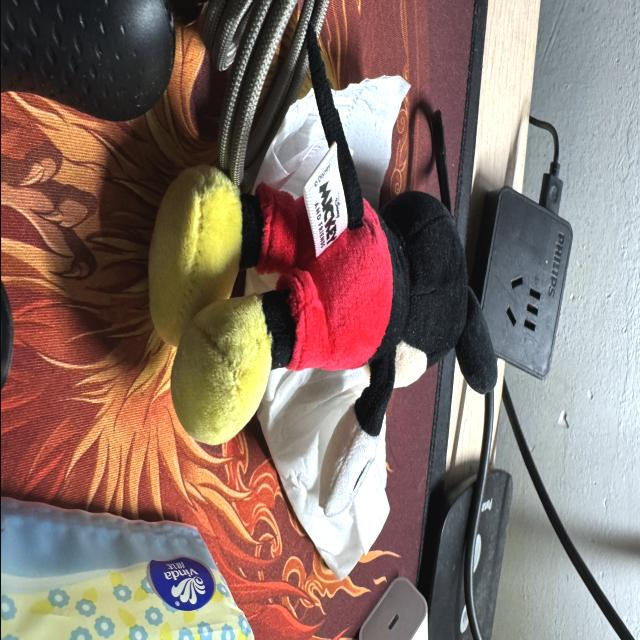mickey: (149, 28, 495, 515)
